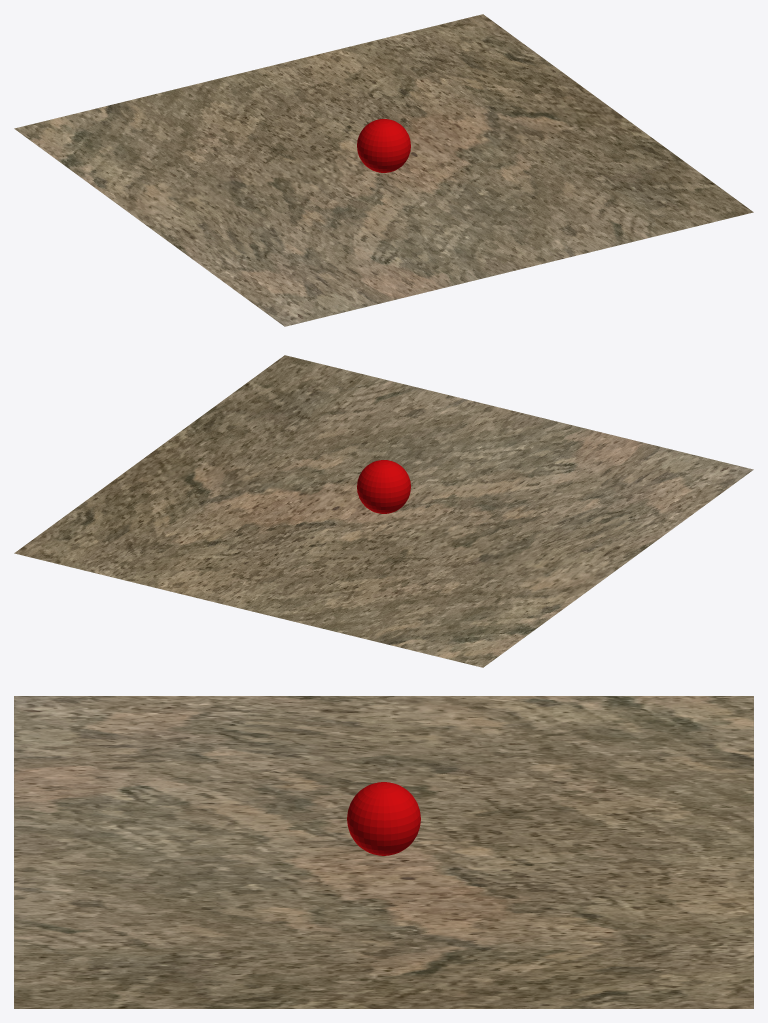
The model's file is ball-in-room.obj.
3 renders of one model, top to bottom at view 1: azimuth 30°, elevation 25°; view 2: azimuth 150°, elevation 25°; view 3: azimuth 270°, elevation 25°, orthographic. The views are drawn at different scales.
Visible parts, largest first — view 1: Plane, Plane.002, Sphere; view 2: Plane, Plane.002, Sphere; view 3: Plane, Plane.002, Sphere.
Boxes of the visible parts, x1=… form: Plane: x1=119, y1=94, x2=753, y2=326; Plane.002: x1=14, y1=14, x2=627, y2=217; Sphere: x1=357, y1=119, x2=410, y2=172; Plane: x1=119, y1=355, x2=753, y2=606; Plane.002: x1=14, y1=446, x2=616, y2=667; Sphere: x1=357, y1=460, x2=410, y2=513; Plane: x1=14, y1=696, x2=531, y2=1008; Plane.002: x1=360, y1=696, x2=753, y2=1008; Sphere: x1=347, y1=782, x2=420, y2=855.
Size of the model in its own units: 20 by 2 by 20.
Materials: 4 (2 with a texture image).
